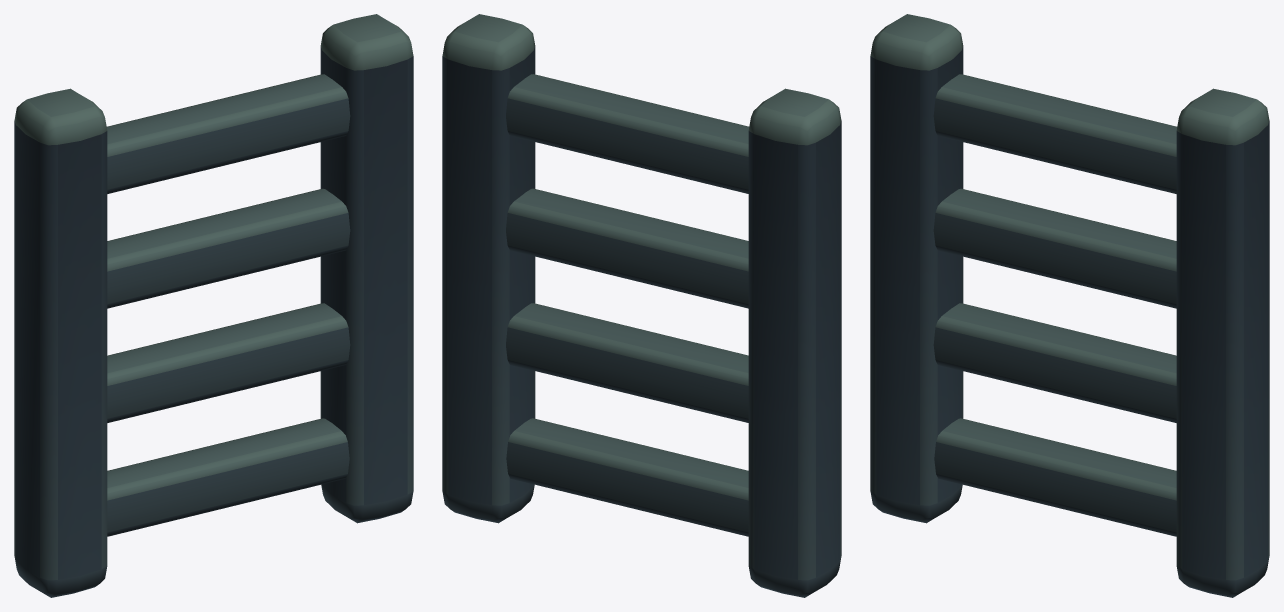
File: Metal_Ladder.fbx
The picture shows the model from 3 angles, left to right: view 1: azimuth 30°, elevation 25°; view 2: azimuth 150°, elevation 25°; view 3: azimuth 330°, elevation 25°; orthographic projection.
Parts seen in each view (by area): view 1: Metal_Ladder_LOD0; view 2: Metal_Ladder_LOD0; view 3: Metal_Ladder_LOD0.
Part boxes in pixels (left/top/right/bottom): Metal_Ladder_LOD0: left=14, top=14, right=413, bottom=597; Metal_Ladder_LOD0: left=442, top=14, right=841, bottom=597; Metal_Ladder_LOD0: left=870, top=14, right=1269, bottom=597.
Size of what is drawn, in the model's own units: 0.8613 by 1.05 by 0.1617.
